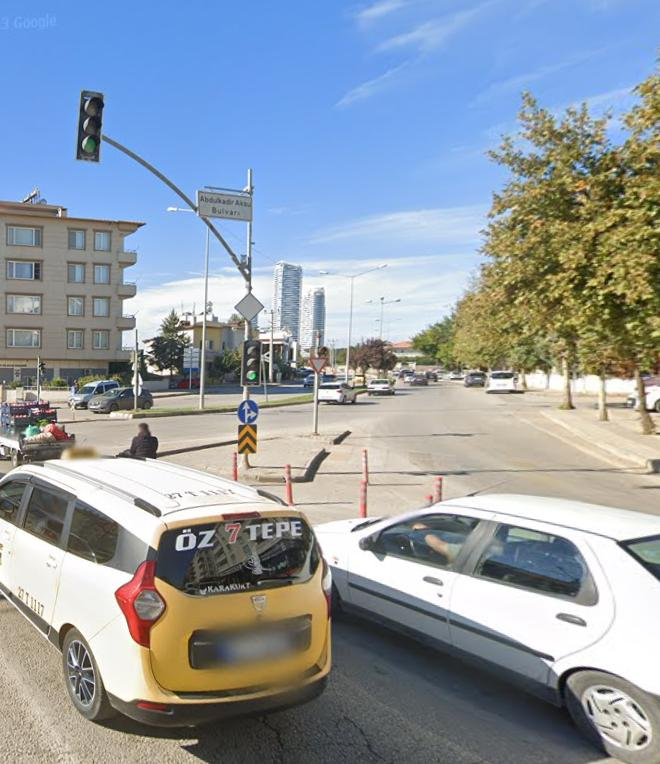greenlight: (79, 92, 100, 161), (245, 342, 262, 385)
